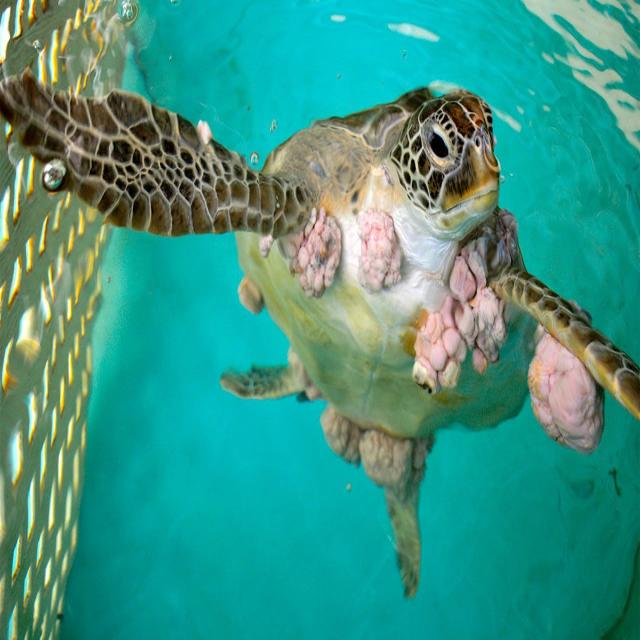turtle: (247, 68, 523, 408)
